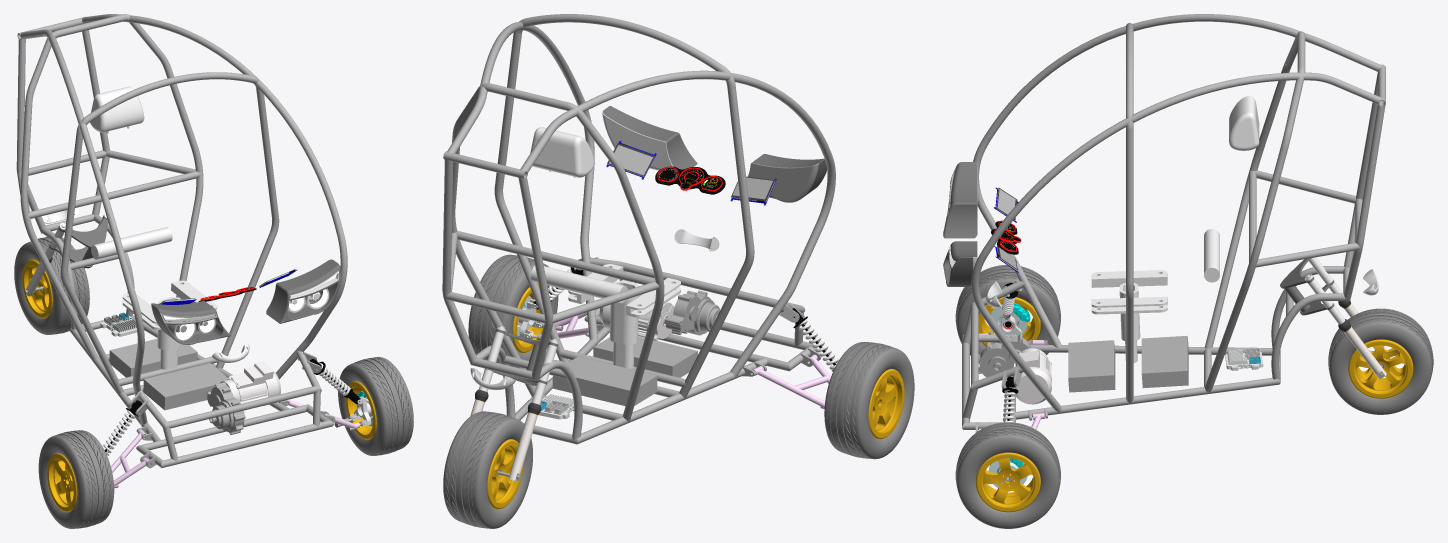
Rendered from gltf_surface_modeling_assem.gltf.
The picture shows the model from 3 angles, left to right: view 1: azimuth 30°, elevation 25°; view 2: azimuth 150°, elevation 25°; view 3: azimuth 270°, elevation 25°; orthographic projection. The views are drawn at different scales.
Visible parts, largest first — view 1: weldments sketch-1, tyre-1 (×2), Mirrortyre-1, Chair-1, head_lamp_1-1, Battery-2, Mirrorhead_lamp_1-4, motor model-1, Battery-1, Wheel rim-1, Wheel rim rear-1, Handle rear-1 (+4 smaller); view 2: weldments sketch-1, tyre-1 (×2), Chair-1, Mirrortyre-1, head_lamp_1-1, Battery-1, Mirrorhead_lamp_1-4, Battery-2, Wheel rim-1, Wheel rim rear-1, Dashboard-5, arm-1 (+10 smaller); view 3: weldments sketch-1, tyre-1 (×2), Mirrortyre-1, Chair-1, MirrorWheel rim-1, Wheel rim rear-1, Battery-2, Battery-1, Mirrorhead_lamp_1-4, motor model-1, head_lamp_1-1, LHC135.stp-1 (+4 smaller).
Part boxes in pixels (box(x1,y1,x2,y2)): weldments sketch-1: box(16, 14, 347, 468); tyre-1 (×2): box(14, 237, 114, 528); Mirrortyre-1: box(338, 357, 413, 455); Chair-1: box(90, 86, 217, 369); head_lamp_1-1: box(266, 259, 340, 323); Battery-2: box(143, 363, 228, 410); Mirrorhead_lamp_1-4: box(151, 300, 231, 344); motor model-1: box(220, 361, 280, 405); Battery-1: box(109, 338, 197, 377); Wheel rim-1: box(47, 453, 77, 512); Wheel rim rear-1: box(22, 259, 52, 318); Handle rear-1: box(49, 216, 108, 268); weldments sketch-1: box(442, 14, 835, 444); tyre-1 (×2): box(443, 342, 914, 528); Chair-1: box(530, 127, 680, 368); Mirrortyre-1: box(468, 254, 558, 367); head_lamp_1-1: box(602, 106, 697, 170); Battery-1: box(552, 356, 657, 406); Mirrorhead_lamp_1-4: box(748, 154, 826, 202); Battery-2: box(593, 336, 697, 377); Wheel rim-1: box(868, 369, 904, 439); Wheel rim rear-1: box(487, 439, 523, 509); Dashboard-5: box(655, 166, 725, 194); arm-1: box(753, 354, 830, 409); weldments sketch-1: box(962, 14, 1385, 432); tyre-1 (×2): box(955, 265, 1433, 414); Mirrortyre-1: box(955, 422, 1060, 528); Chair-1: box(1091, 96, 1259, 362); MirrorWheel rim-1: box(976, 452, 1040, 512); Wheel rim rear-1: box(1348, 339, 1413, 398); Battery-2: box(1068, 340, 1115, 392); Battery-1: box(1141, 335, 1188, 388); Mirrorhead_lamp_1-4: box(943, 162, 977, 238); motor model-1: box(1013, 348, 1051, 404); head_lamp_1-1: box(943, 241, 977, 286); LHC135.stp-1: box(978, 337, 1029, 380).
Size of the model in its own units: 1.81 by 1.9 by 2.13.
